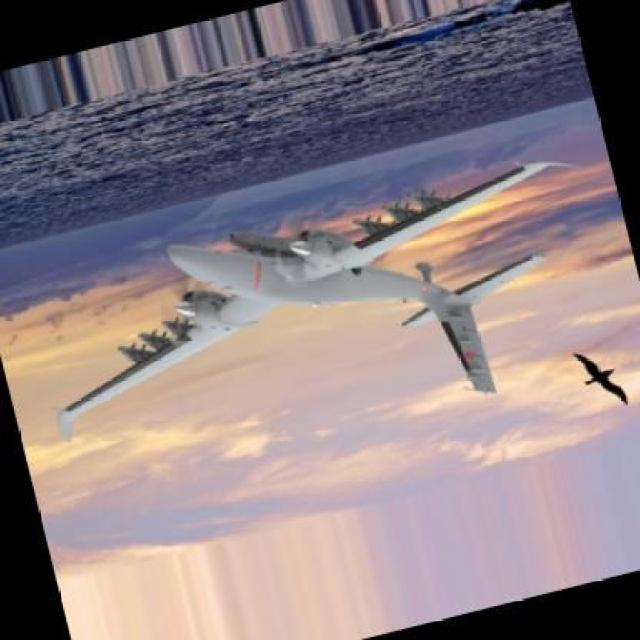iha: (53, 161, 549, 441)
